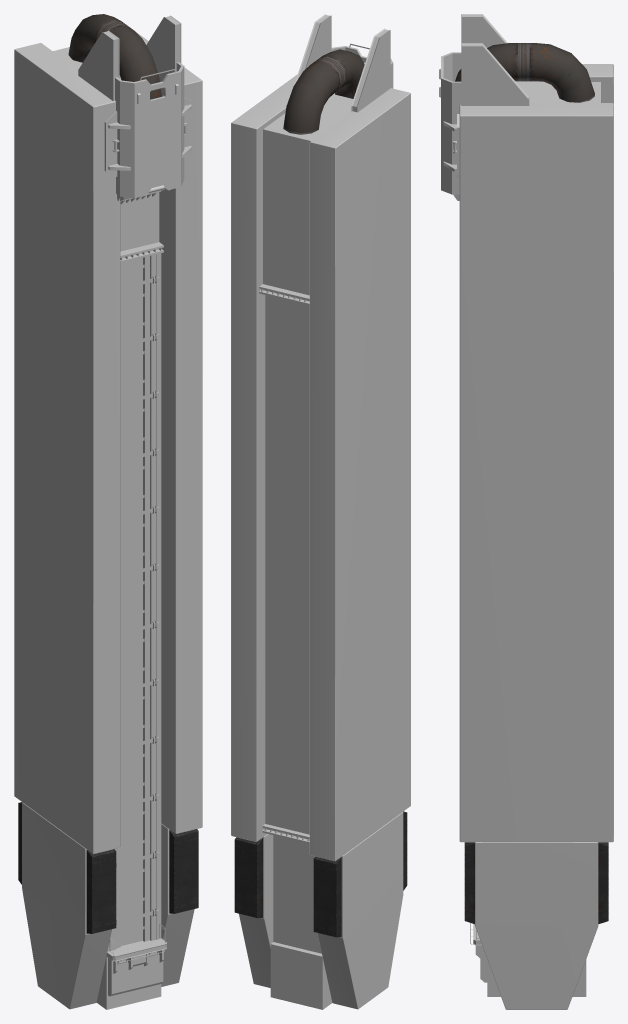
The model's file is Wall_Large_04_LOD1.fbx.
3 renders of one model, left to right at view 1: azimuth 30°, elevation 25°; view 2: azimuth 150°, elevation 25°; view 3: azimuth 270°, elevation 25°, orthographic. The views are drawn at different scales.
Visible parts, largest first — view 1: Concrete_Block, Element1, Element2, Element3, Pipe1; view 2: Concrete_Block, Element3, Pipe1, Element2, Element1; view 3: Concrete_Block, Element2, Pipe1, Element3, Element1.
Boxes of the visible parts, bbox=[...] form: Concrete_Block: bbox=[14, 31, 202, 1009]; Element1: bbox=[106, 242, 166, 996]; Element2: bbox=[78, 15, 192, 204]; Element3: bbox=[18, 802, 198, 933]; Pipe1: bbox=[68, 14, 161, 99]; Concrete_Block: bbox=[231, 74, 410, 1009]; Element3: bbox=[234, 811, 407, 937]; Pipe1: bbox=[283, 49, 364, 134]; Element2: bbox=[294, 14, 393, 112]; Element1: bbox=[259, 284, 309, 843]; Concrete_Block: bbox=[459, 64, 613, 1009]; Element2: bbox=[439, 14, 529, 200]; Pipe1: bbox=[455, 43, 594, 102]; Element3: bbox=[464, 842, 608, 924]; Element1: bbox=[470, 923, 487, 982].
Bounding box in the file's own units: 400 × 3413 × 566.
